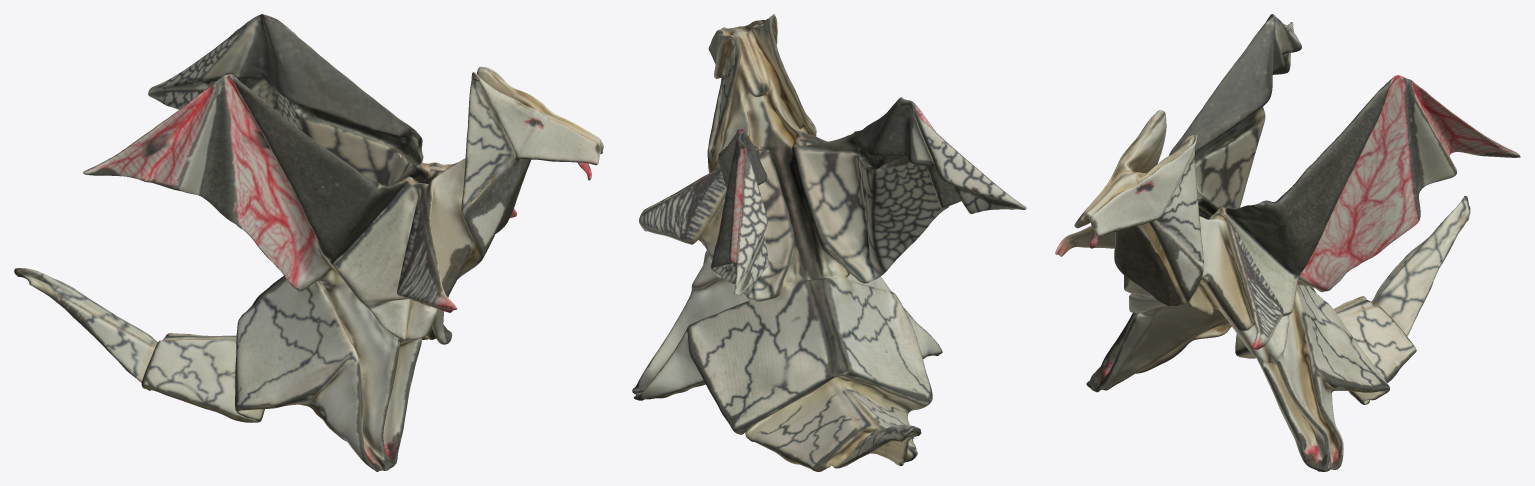
The model's file is origami_dragon.glb.
3 views of the same model, side by side, from view 1: azimuth 30°, elevation 25°; view 2: azimuth 150°, elevation 25°; view 3: azimuth 270°, elevation 25° (orthographic).
Parts seen in each view (by area): view 1: Object_10, Object_5, Object_11, Object_2, Object_4, Object_12, Object_7, Object_14, Object_9, Object_13; view 2: Object_13, Object_14, Object_5, Object_12, Object_7, Object_11, Object_6, Object_2, Object_3, Object_4, Object_9, Object_15 (+1 smaller); view 3: Object_3, Object_13, Object_14, Object_7, Object_4, Object_9, Object_2, Object_15, Object_12, Object_6, Object_5, Object_10.
Boxes of the visible parts, bbox=[...] form: Object_10: bbox=[83, 74, 462, 306]; Object_5: bbox=[235, 176, 432, 471]; Object_11: bbox=[148, 14, 422, 185]; Object_2: bbox=[450, 72, 600, 283]; Object_4: bbox=[14, 162, 516, 390]; Object_12: bbox=[141, 333, 256, 422]; Object_7: bbox=[477, 66, 603, 233]; Object_14: bbox=[83, 74, 406, 291]; Object_9: bbox=[235, 264, 466, 471]; Object_13: bbox=[393, 162, 456, 184]; Object_13: bbox=[632, 118, 840, 432]; Object_14: bbox=[802, 97, 1026, 279]; Object_5: bbox=[763, 114, 942, 400]; Object_12: bbox=[747, 386, 917, 471]; Object_7: bbox=[707, 27, 765, 173]; Object_11: bbox=[712, 130, 770, 299]; Object_6: bbox=[639, 167, 726, 244]; Object_2: bbox=[730, 14, 816, 136]; Object_3: bbox=[711, 129, 768, 300]; Object_4: bbox=[698, 122, 921, 468]; Object_9: bbox=[835, 353, 940, 414]; Object_15: bbox=[632, 250, 841, 437]; Object_3: bbox=[1226, 75, 1520, 293]; Object_13: bbox=[1208, 206, 1389, 470]; Object_14: bbox=[1169, 14, 1301, 208]; Object_7: bbox=[1085, 134, 1205, 307]; Object_4: bbox=[1055, 196, 1470, 336]; Object_9: bbox=[1087, 243, 1251, 392]; Object_2: bbox=[1074, 110, 1166, 287]; Object_15: bbox=[1193, 280, 1386, 471]; Object_12: bbox=[1333, 296, 1416, 404]; Object_6: bbox=[1222, 215, 1283, 349]; Object_5: bbox=[1086, 193, 1218, 391]; Object_10: bbox=[1055, 14, 1291, 288].
Bounding box in the file's own units: 1.98 × 1.55 × 1.93.
1 material, 1 textured.
